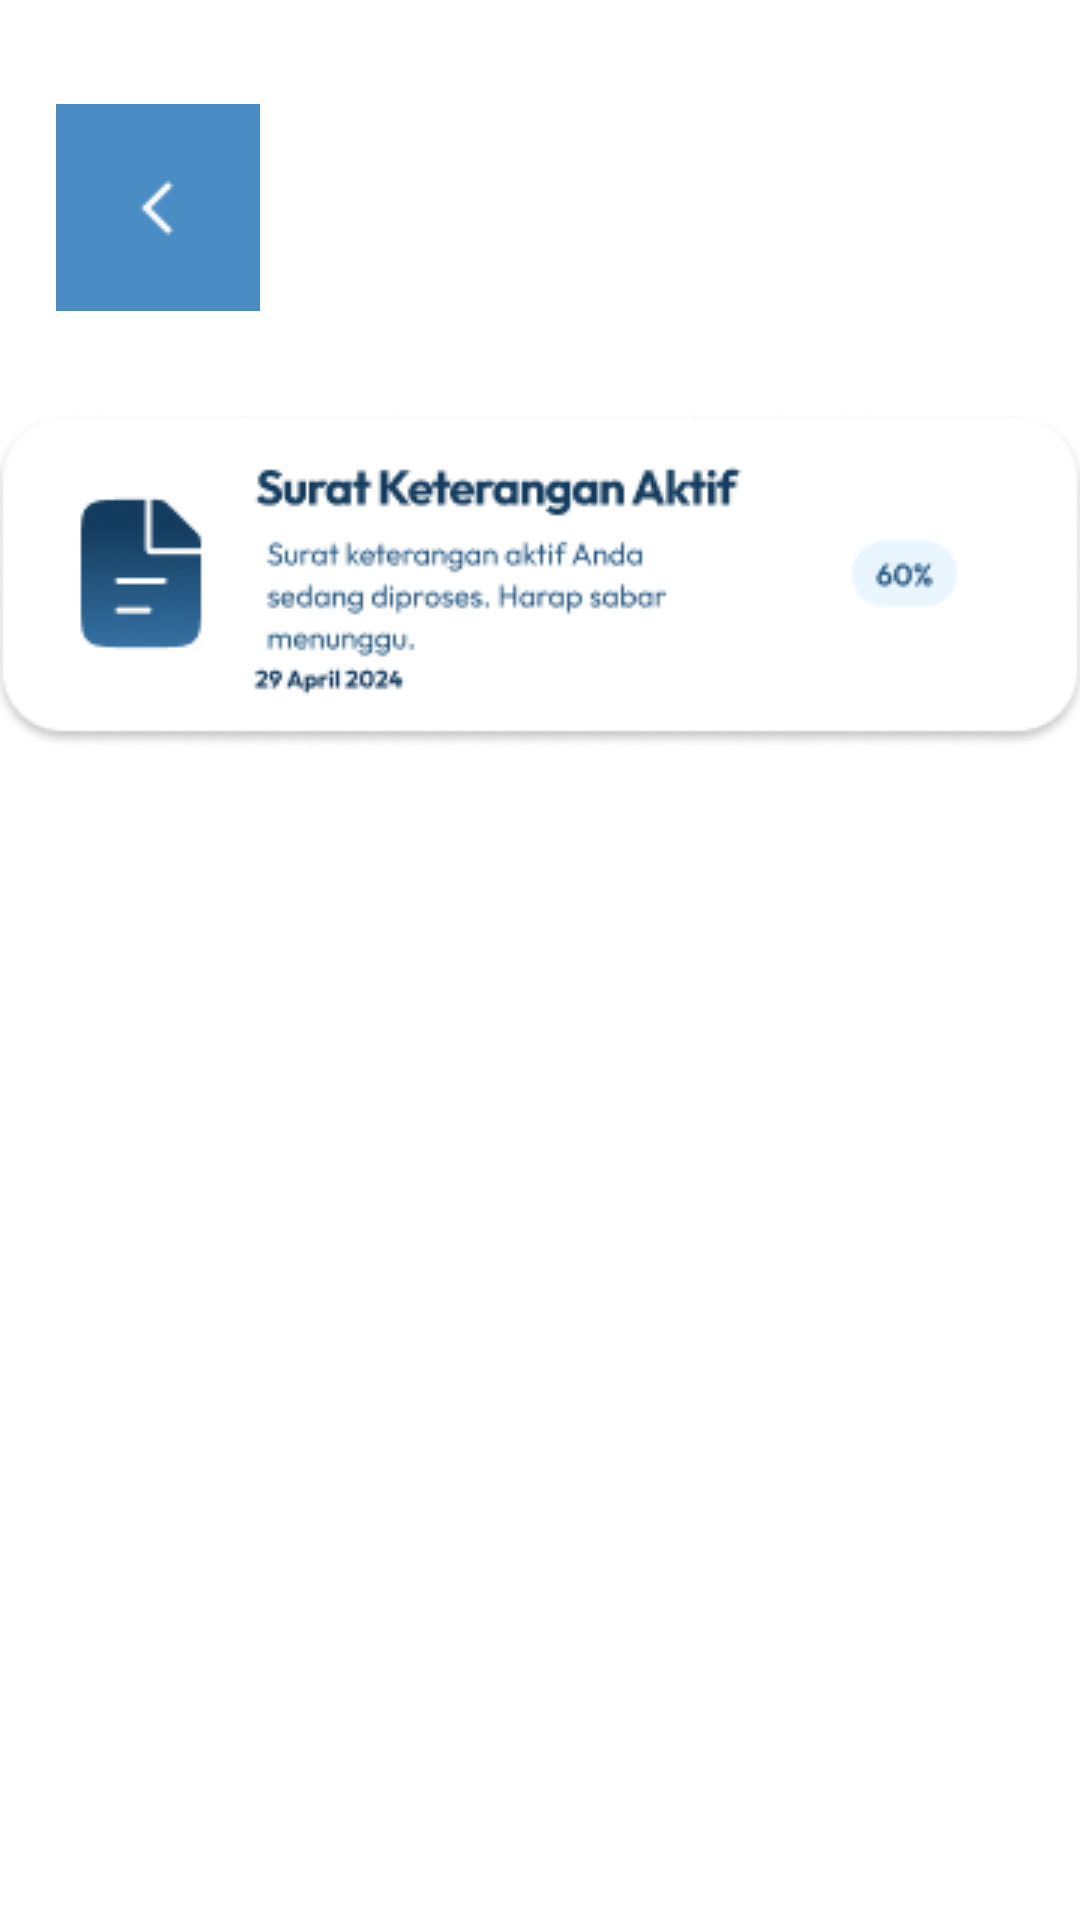

Icon bounding boxes for this 1080px×1920px phone screenshot, format box=[x1, y1, x2, y2]:
back: box=[56, 104, 260, 311]
